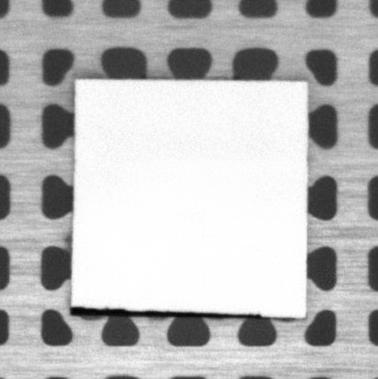DIE_BROKEN: (68, 305, 266, 319)
